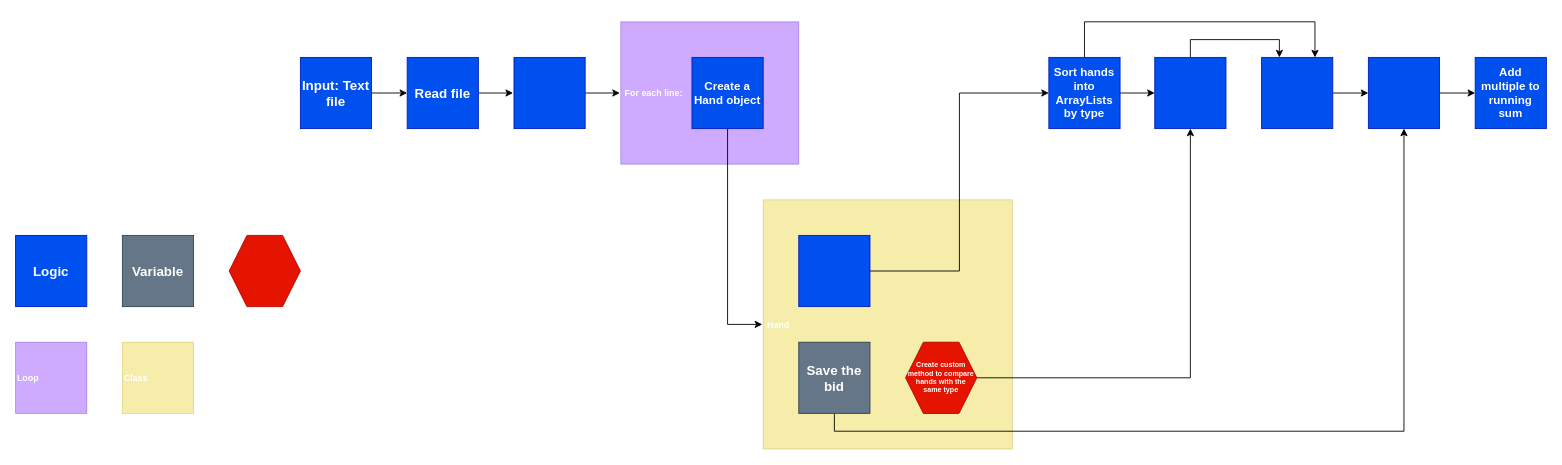
This 1562x465 diagram has some shape labels left out. Here are the shapes that lost their labels. From the top down, the centre of each, then its label:
At [549,93]: "Count the number of lines".
At [1190,93]: "Sort each list".
At [1297,93]: "Work out ranking every single hand".
At [1403,93]: "Multiply ranking by bid".
At [264,271]: "Note".
At [834,271]: "Work out the type".
